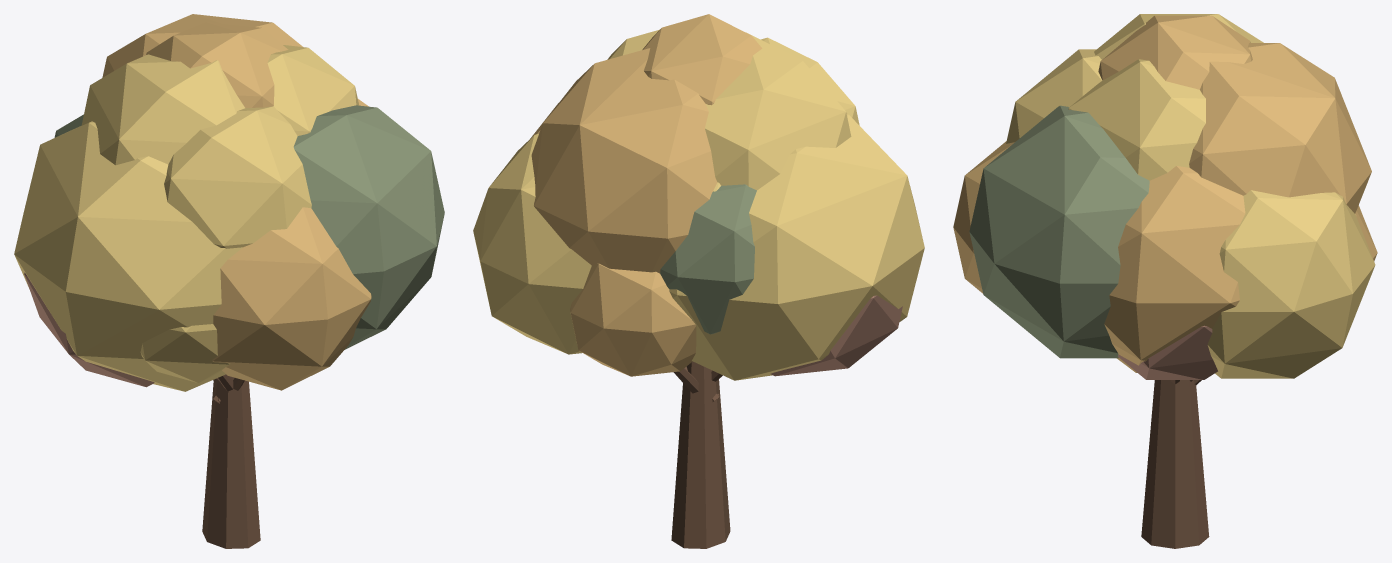
File: tree_reference_oak_slim_01_optimized.fbx
3 views of the same model, side by side, from view 1: azimuth 30°, elevation 25°; view 2: azimuth 150°, elevation 25°; view 3: azimuth 270°, elevation 25° (orthographic).
Parts seen in each view (by area): view 1: tree_reference_oak_slim_01_01_valendia_img2_gold_leaf_004, tree_reference_oak_slim_01_04_valendia_img2_warm_leaf_004, tree_reference_oak_slim_01_02_valendia_img2_olive_shadow_004, tree_reference_oak_slim_01_00_valendia_dark_bark_004, tree_reference_oak_slim_01_03_valendia_img2_russet_shadow_00; view 2: tree_reference_oak_slim_01_01_valendia_img2_gold_leaf_004, tree_reference_oak_slim_01_04_valendia_img2_warm_leaf_004, tree_reference_oak_slim_01_02_valendia_img2_olive_shadow_004, tree_reference_oak_slim_01_00_valendia_dark_bark_004, tree_reference_oak_slim_01_03_valendia_img2_russet_shadow_00; view 3: tree_reference_oak_slim_01_04_valendia_img2_warm_leaf_004, tree_reference_oak_slim_01_01_valendia_img2_gold_leaf_004, tree_reference_oak_slim_01_02_valendia_img2_olive_shadow_004, tree_reference_oak_slim_01_00_valendia_dark_bark_004, tree_reference_oak_slim_01_03_valendia_img2_russet_shadow_00.
Boxes of the visible parts, x1,y1,x2,y2 form: tree_reference_oak_slim_01_01_valendia_img2_gold_leaf_004: (14,45,359,391); tree_reference_oak_slim_01_04_valendia_img2_warm_leaf_004: (102,14,371,390); tree_reference_oak_slim_01_02_valendia_img2_olive_shadow_004: (54,105,444,349); tree_reference_oak_slim_01_00_valendia_dark_bark_004: (202,374,260,548); tree_reference_oak_slim_01_03_valendia_img2_russet_shadow_00: (24,272,154,387); tree_reference_oak_slim_01_01_valendia_img2_gold_leaf_004: (473,29,924,380); tree_reference_oak_slim_01_04_valendia_img2_warm_leaf_004: (530,14,762,376); tree_reference_oak_slim_01_02_valendia_img2_olive_shadow_004: (660,184,756,334); tree_reference_oak_slim_01_00_valendia_dark_bark_004: (671,361,730,548); tree_reference_oak_slim_01_03_valendia_img2_russet_shadow_00: (771,295,902,376); tree_reference_oak_slim_01_04_valendia_img2_warm_leaf_004: (953,15,1377,372); tree_reference_oak_slim_01_01_valendia_img2_gold_leaf_004: (1006,14,1375,378); tree_reference_oak_slim_01_02_valendia_img2_olive_shadow_004: (969,105,1149,358); tree_reference_oak_slim_01_00_valendia_dark_bark_004: (1141,380,1209,548); tree_reference_oak_slim_01_03_valendia_img2_russet_shadow_00: (1118,325,1217,379).
Size of the model in its own units: 425 by 568 by 425.
